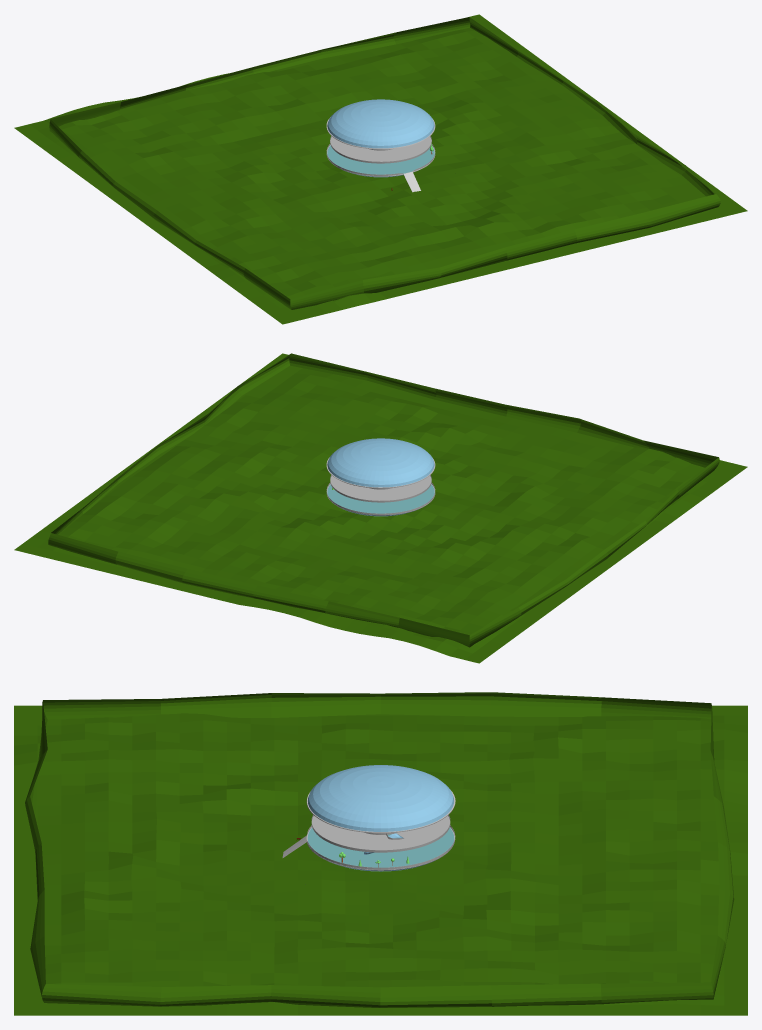
File: detailed-glass-house7.glb
3 views of the same model, one above another, from view 1: azimuth 30°, elevation 25°; view 2: azimuth 150°, elevation 25°; view 3: azimuth 270°, elevation 25° (orthographic). The views are drawn at different scales.
Visible parts, largest first — view 1: ground, Plane, dome, floor2nd, floor; view 2: ground, Plane, dome, floor2nd, floor; view 3: ground, Plane, dome, floor2nd, floor.
Boxes of the visible parts, x1=… form: ground: x1=14, y1=14, x2=747, y2=324; Plane: x1=49, y1=17, x2=720, y2=309; dome: x1=327, y1=99, x2=434, y2=148; floor2nd: x1=330, y1=136, x2=431, y2=163; floor: x1=327, y1=145, x2=434, y2=174; ground: x1=14, y1=353, x2=747, y2=663; Plane: x1=48, y1=353, x2=719, y2=647; dome: x1=327, y1=438, x2=434, y2=487; floor2nd: x1=330, y1=475, x2=431, y2=502; floor: x1=327, y1=484, x2=434, y2=513; ground: x1=14, y1=705, x2=747, y2=1015; Plane: x1=25, y1=692, x2=734, y2=1007; dome: x1=308, y1=765, x2=453, y2=831; floor2nd: x1=311, y1=815, x2=450, y2=852; floor: x1=307, y1=828, x2=454, y2=867.
Size of the model in its own units: 600 by 71.27 by 600.
